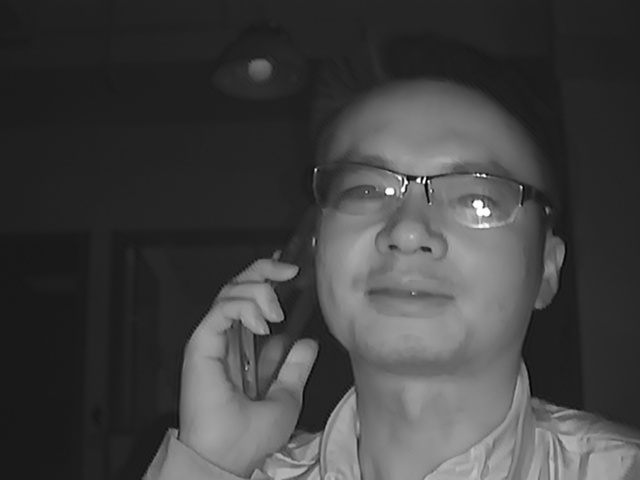hand: (177, 253, 313, 449)
